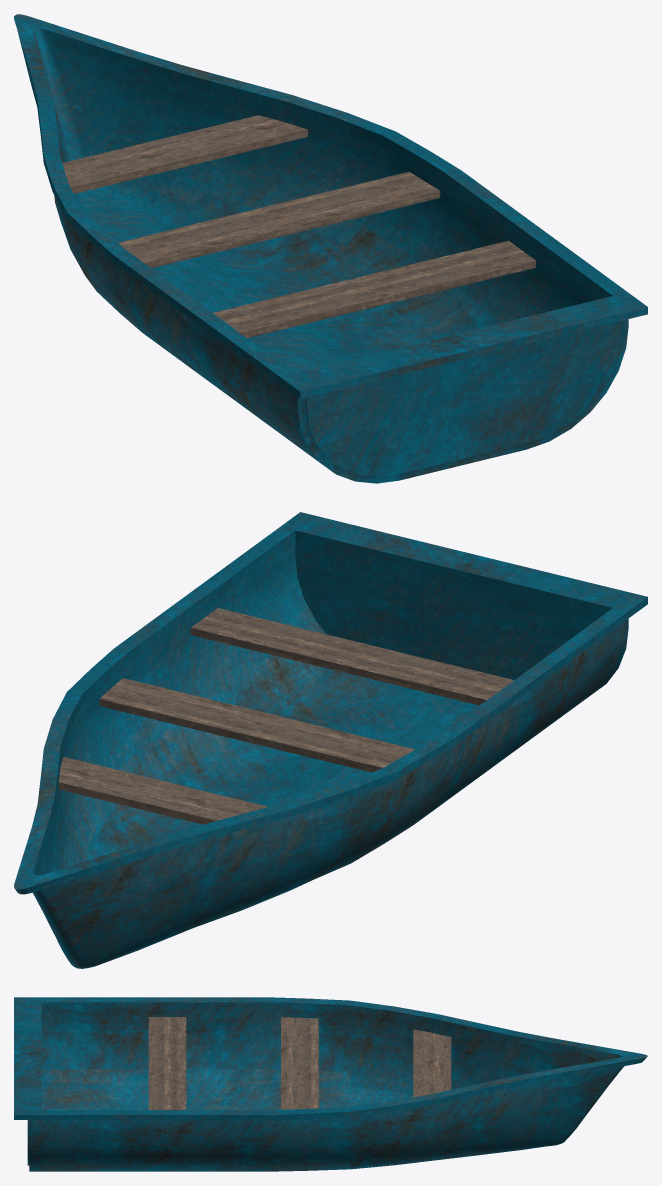
File: blue_boat.glb
3 renders of one model, top to bottom at view 1: azimuth 30°, elevation 25°; view 2: azimuth 150°, elevation 25°; view 3: azimuth 270°, elevation 25°, orthographic. The views are drawn at different scales.
Visible parts, largest first — view 1: blue_boat; view 2: blue_boat; view 3: blue_boat.
Part boxes in pixels (bbox=[...]): blue_boat: bbox=[14, 14, 647, 483]; blue_boat: bbox=[14, 512, 647, 968]; blue_boat: bbox=[14, 997, 647, 1171].
Size of the model in its own units: 1.47 by 0.5 by 3.35.
Materials: 1 (1 with a texture image).
